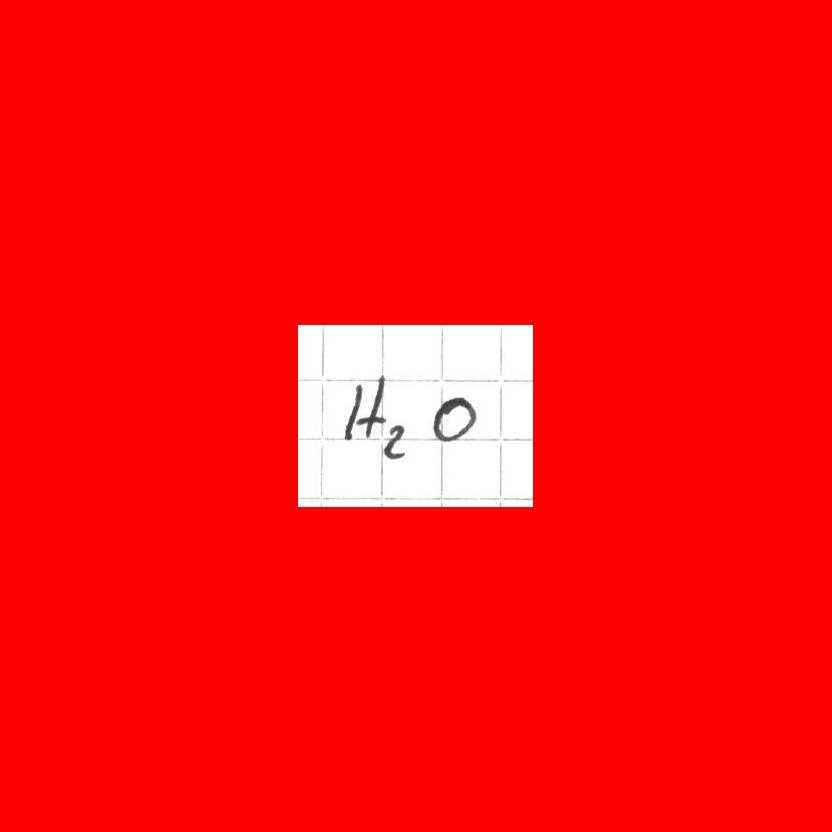Char: (347, 374, 382, 441), (431, 393, 478, 442), (382, 420, 407, 460)
